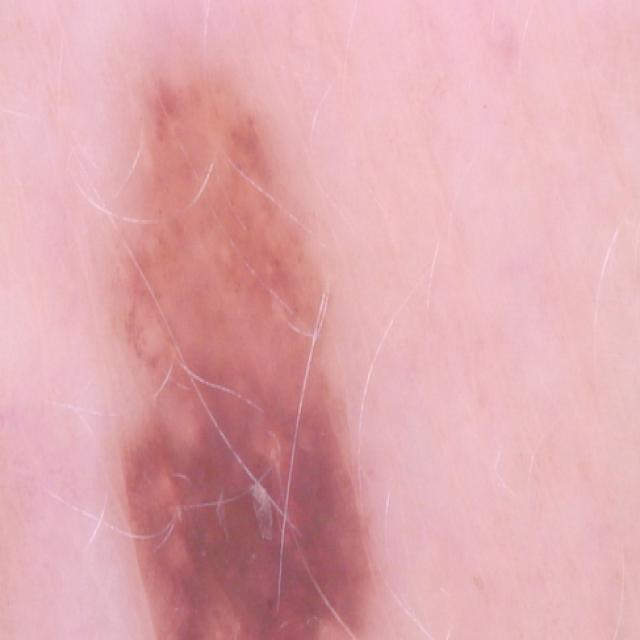Keratosis: (38, 38, 455, 640)
